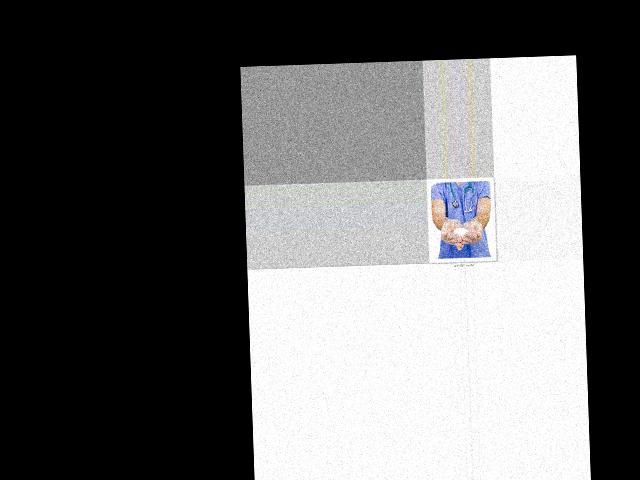egg: (453, 227, 469, 238)
